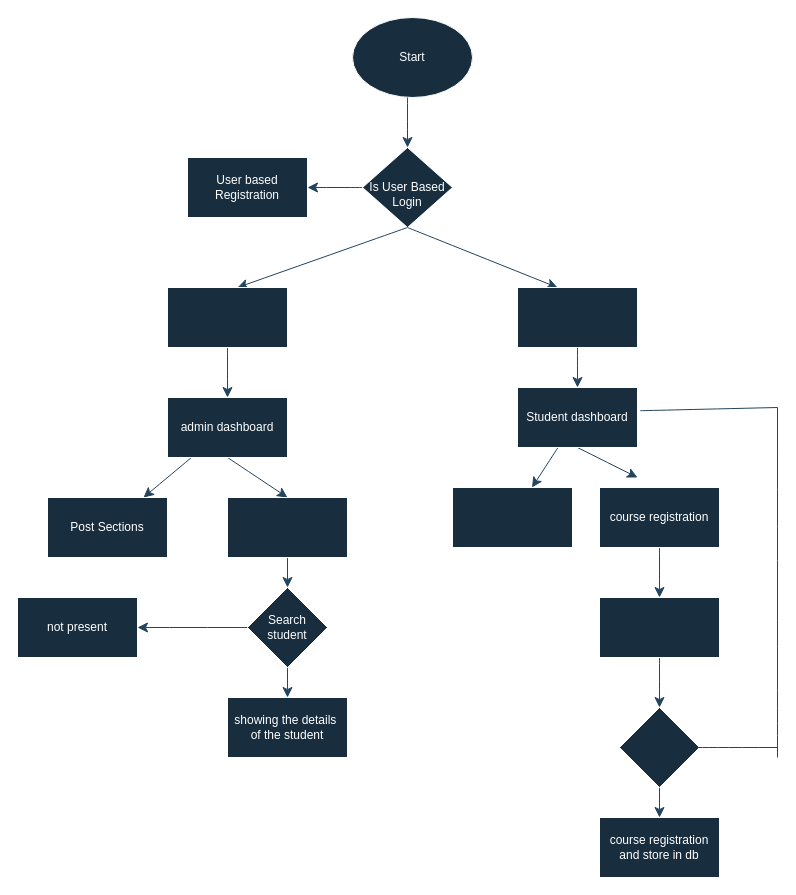
The diagram is 796 pixels wide and 895 high, and some of its shapes have lost their labels. Each missing label, with the centre of its shape:
"Admin" goes at pixel 227 317.
"if interested?" goes at pixel 659 747.
"Manage Students edit delete" goes at pixel 287 527.
"showing the course details" goes at pixel 659 627.
"Student" goes at pixel 577 317.
"view attendance ,notice, exam, routine" goes at pixel 512 517.
